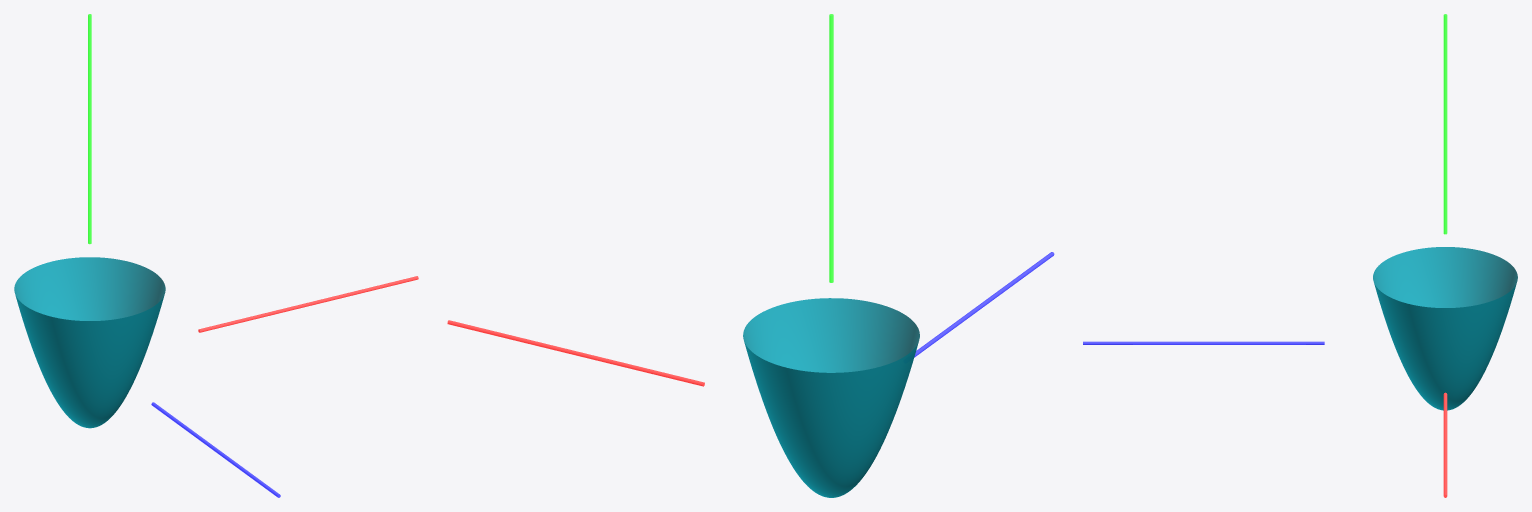
Rendered from solid-of-revolution-sqrtx.glb.
3 views of the same model, side by side, from view 1: azimuth 30°, elevation 25°; view 2: azimuth 150°, elevation 25°; view 3: azimuth 270°, elevation 25° (orthographic). The views are drawn at different scales.
Bounding box in the file's own units: 1.8 × 1.8 × 1.8.
